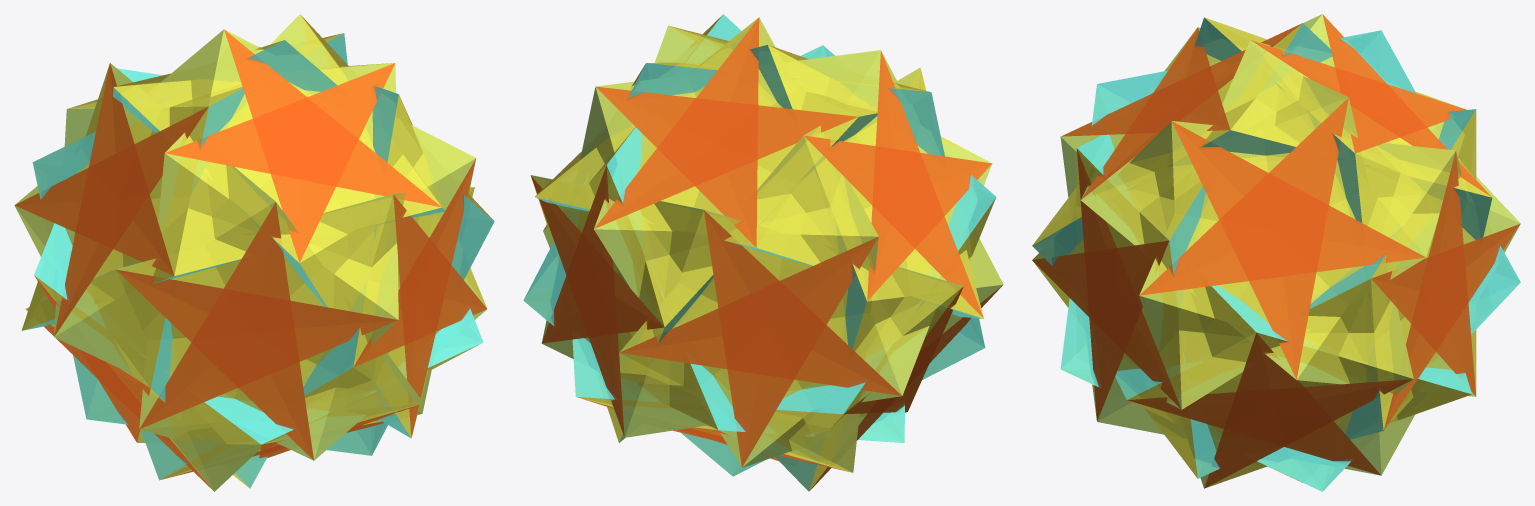
Rendered from InvertedSnubDodecadodecahedron.obj.
3 views of the same model, side by side, from view 1: azimuth 30°, elevation 25°; view 2: azimuth 150°, elevation 25°; view 3: azimuth 270°, elevation 25° (orthographic).
Size of the model in its own units: 1.69 by 1.69 by 1.69.
